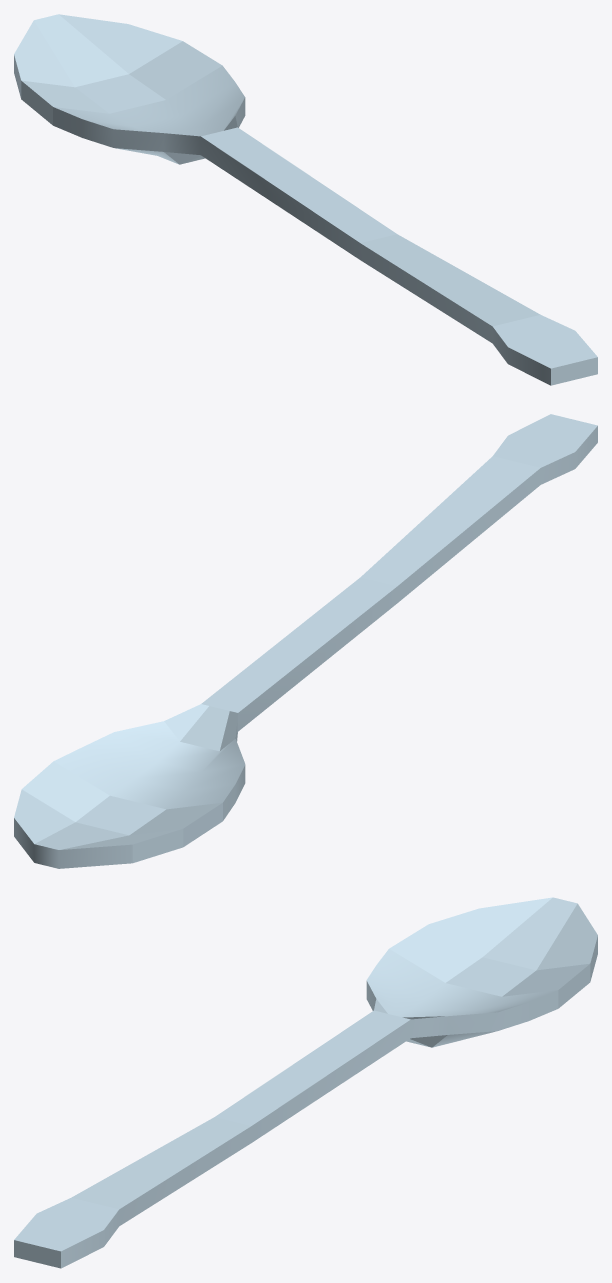
The model's file is SM_fork_02.fbx.
3 views of the same model, one above another, from view 1: azimuth 30°, elevation 25°; view 2: azimuth 150°, elevation 25°; view 3: azimuth 330°, elevation 25° (orthographic).
Parts seen in each view (by area): view 1: fork001; view 2: fork001; view 3: fork001.
Part boxes in pixels (x1=…): fork001: x1=14, y1=14, x2=597, y2=385; fork001: x1=14, y1=414, x2=597, y2=868; fork001: x1=14, y1=897, x2=597, y2=1268.
Size of the model in its own units: 9.66 by 4.48 by 52.12.
